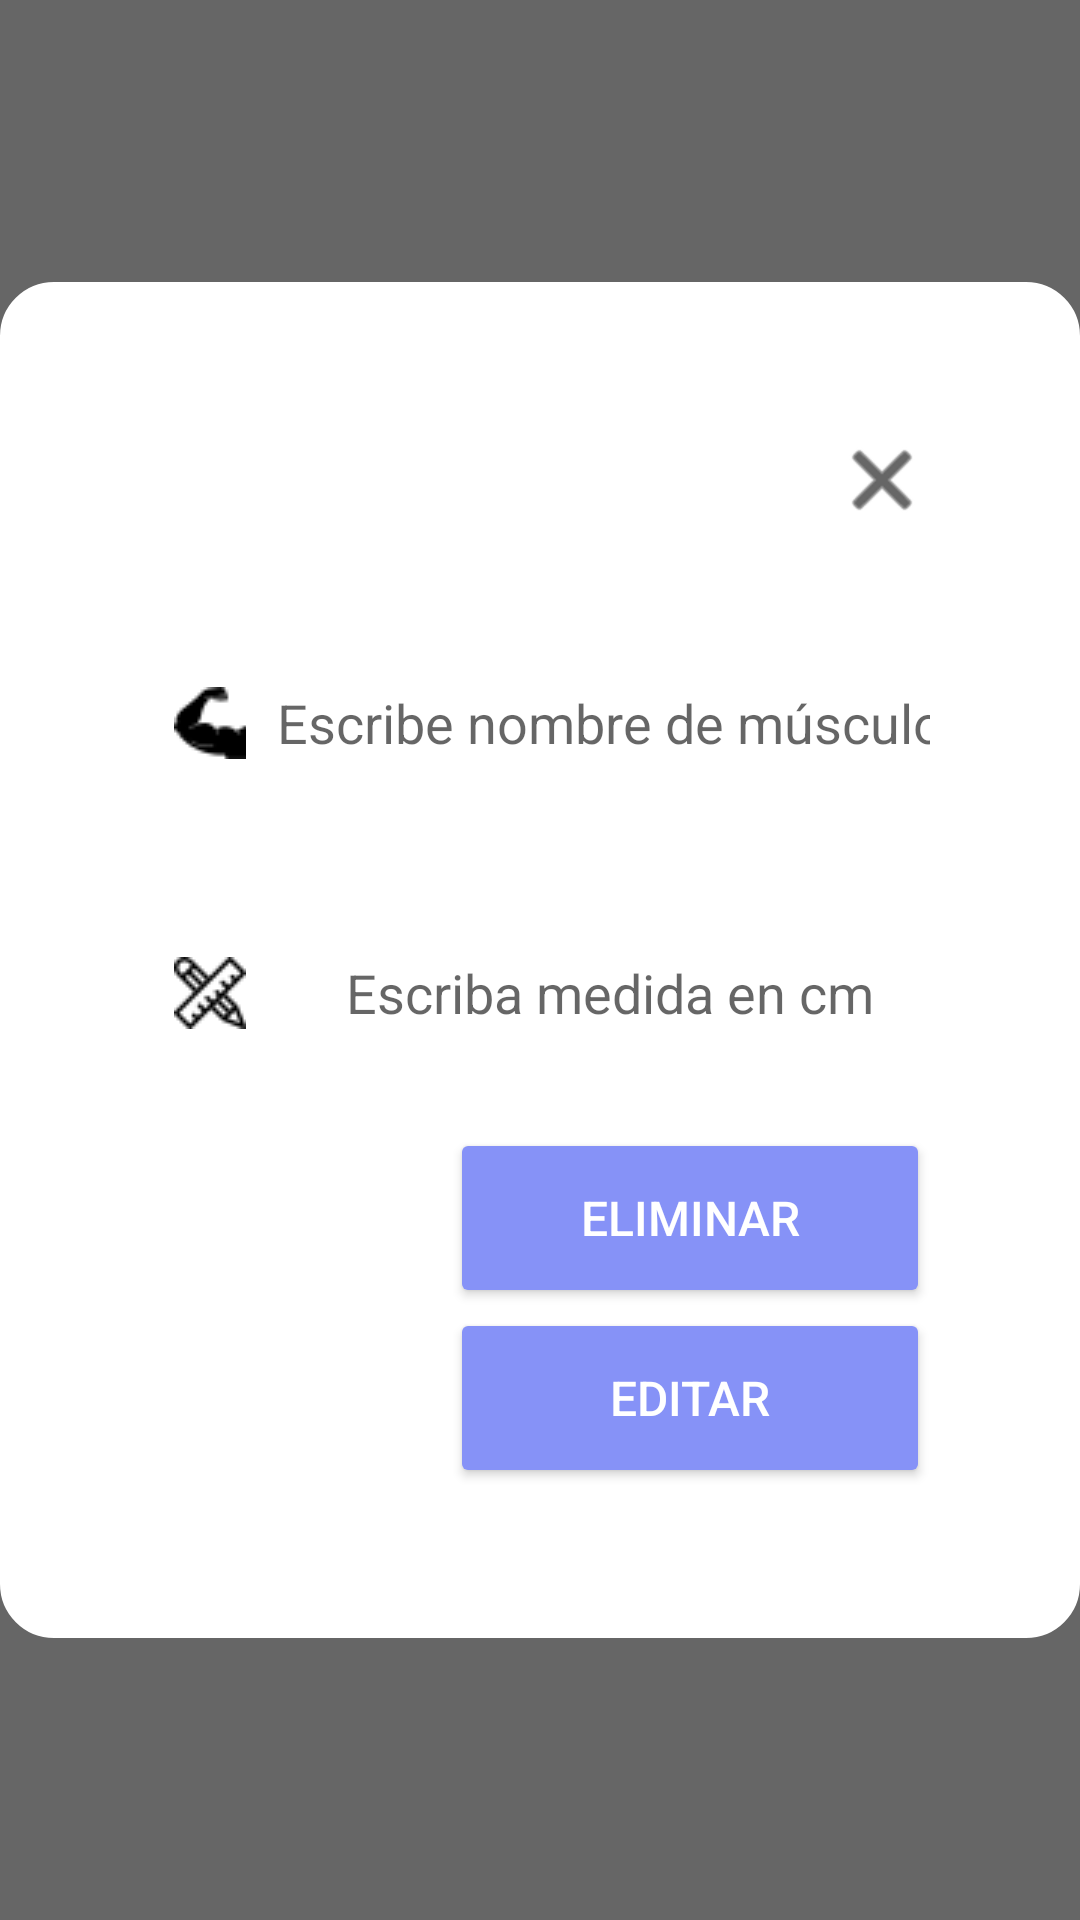

Point at icon controls on the screen. Image size 1080px×1920px, points as (x,y).
close clear cancel: (882,480)
